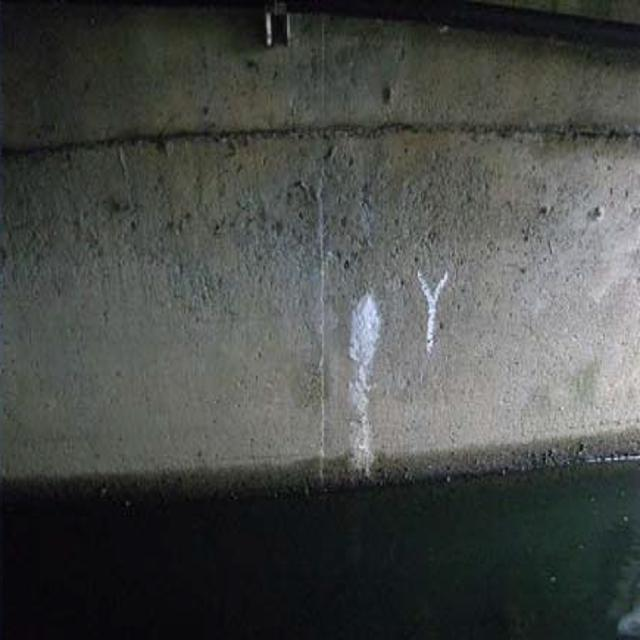freelime: (336, 280, 384, 477)
